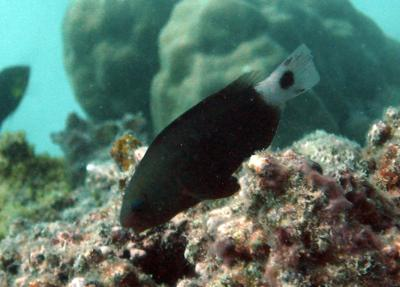Scaridae -Parrotfishes-: (116, 39, 322, 237)
